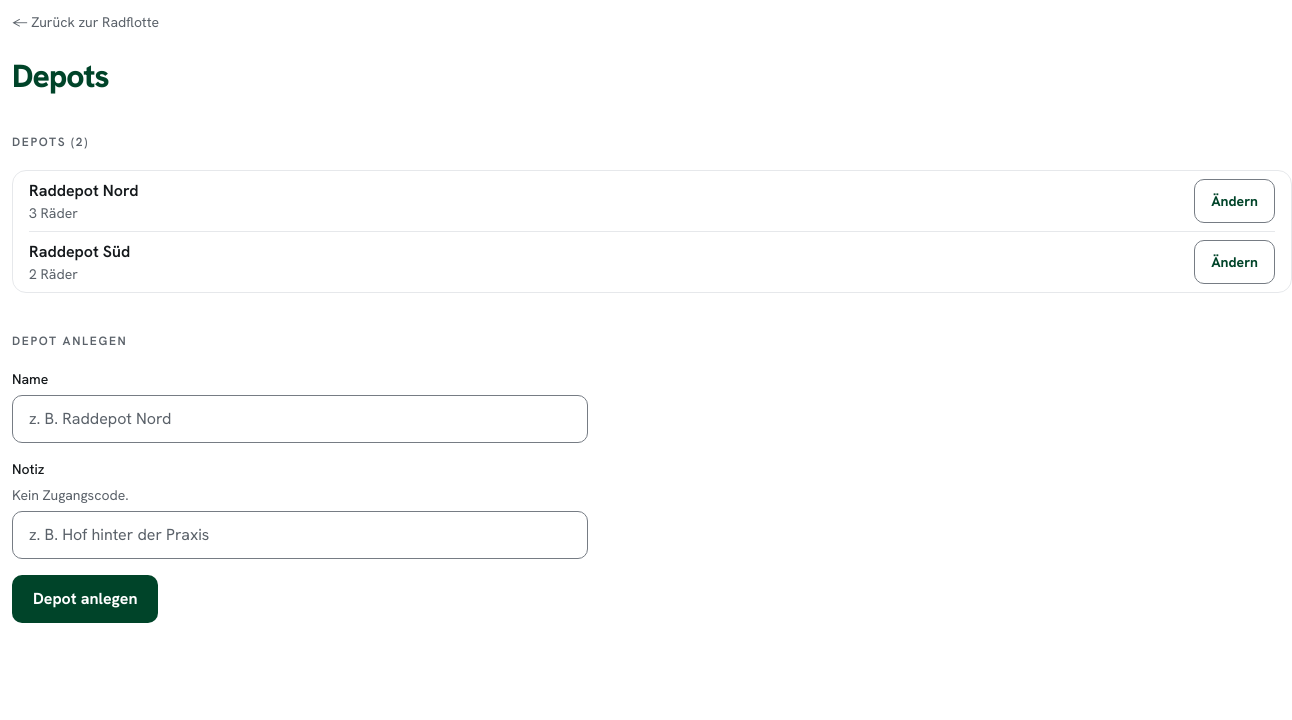
Depots › legt ein Depot an und bietet „Entfernen“ nur für ein leeres an
Expected: the text "Raddepot Nord" is shown, [29, 180, 138, 201]
Step 1. Click the button with aria-label "Raddepot Nord ändern" → (1235, 201), box [1194, 179, 1275, 223]
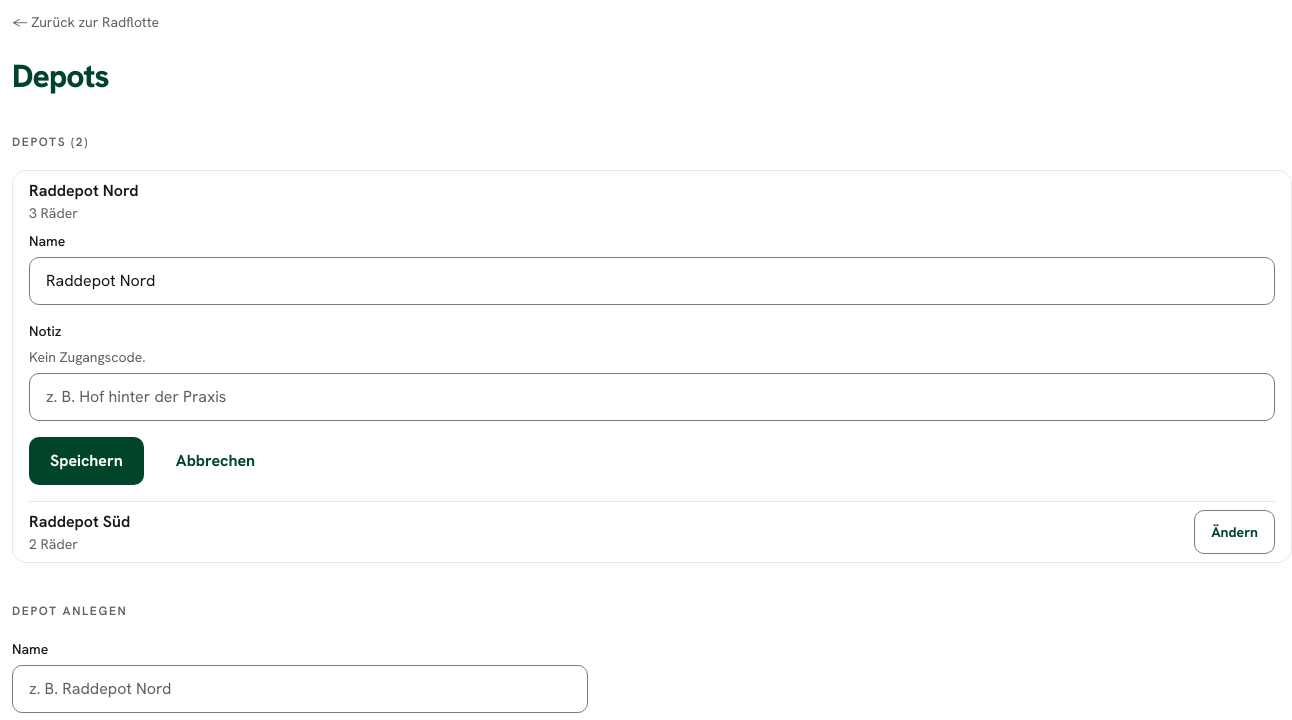
Step 2. Click the button "Abbrechen" → (215, 461), box [156, 437, 275, 485]
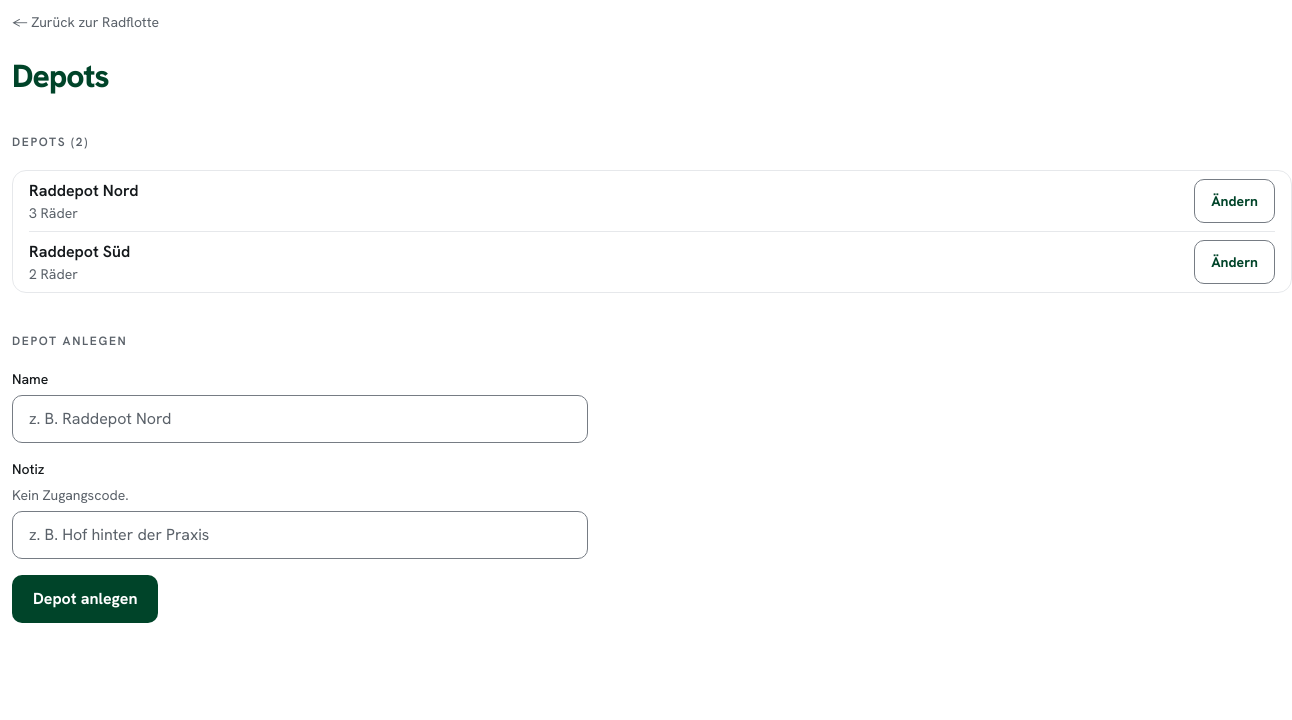
Step 3. Type "Raddepot West" into the field labelled "Name" → (300, 419), box [12, 395, 588, 443]
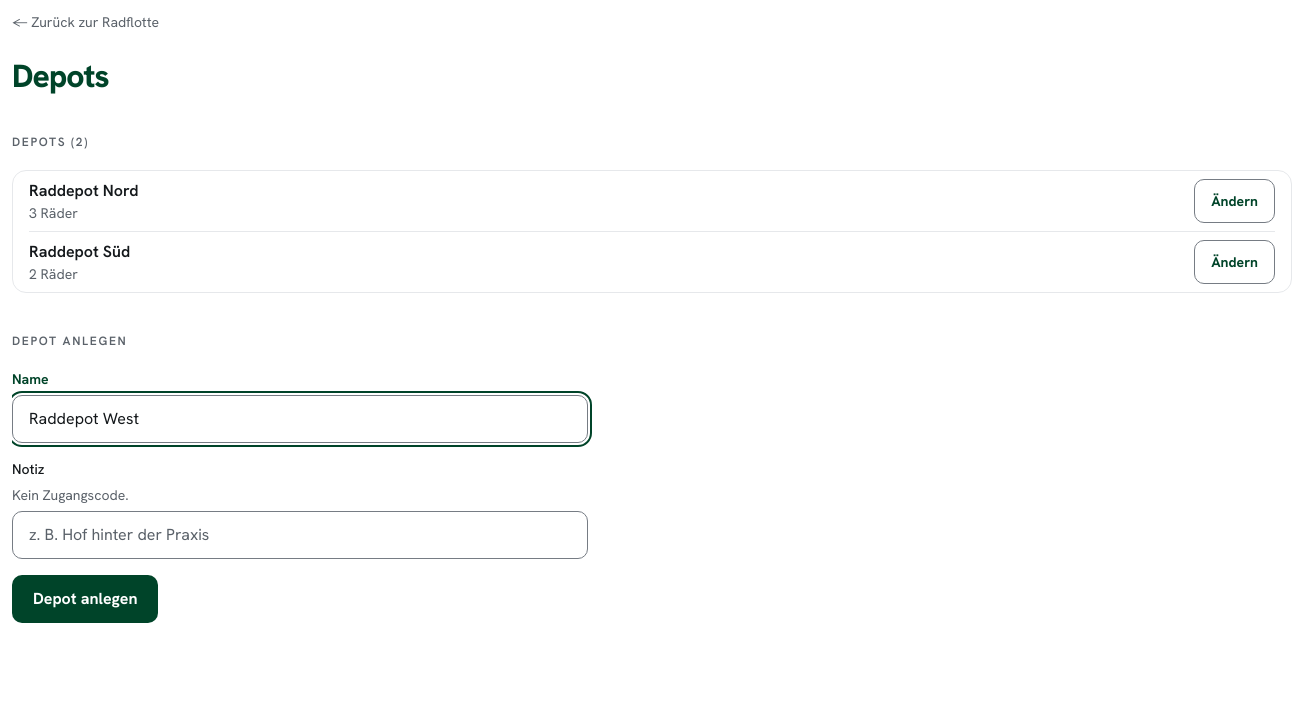
Step 4. Click the button "Depot anlegen" → (85, 599), box [12, 575, 158, 623]
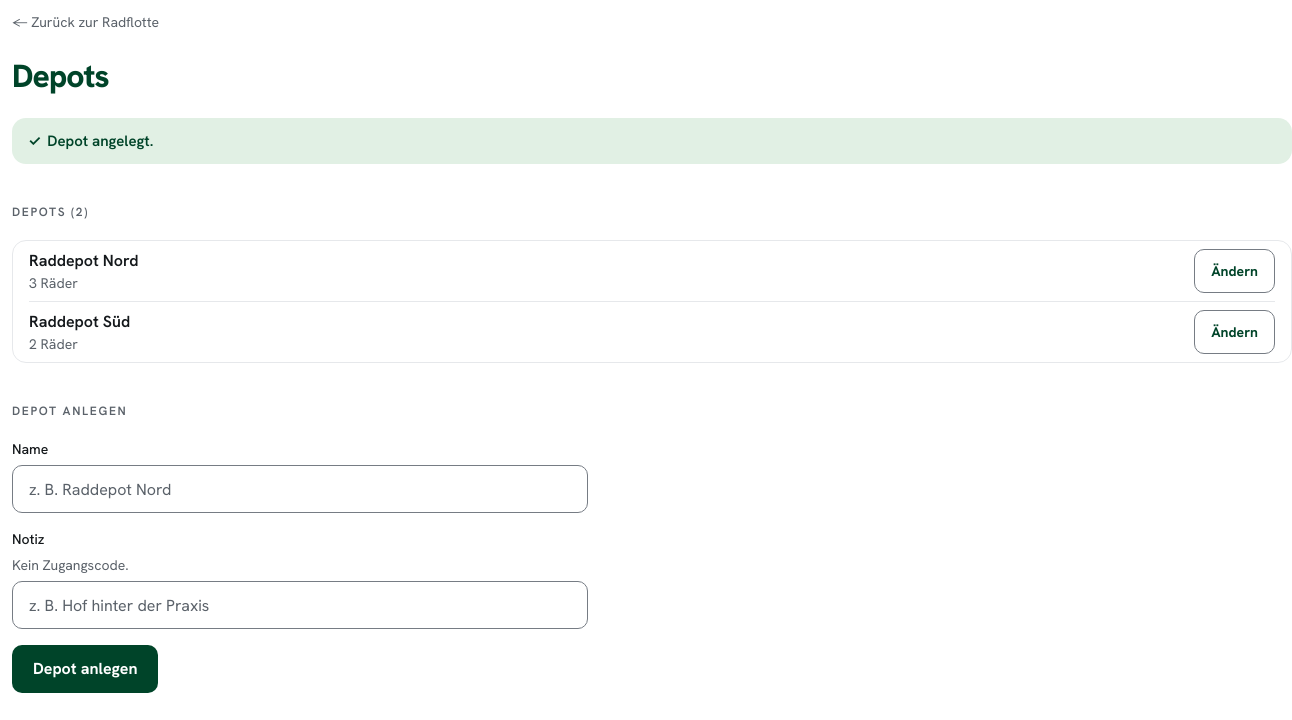
Now the text "Depot angelegt." is shown, box [47, 131, 153, 151]
